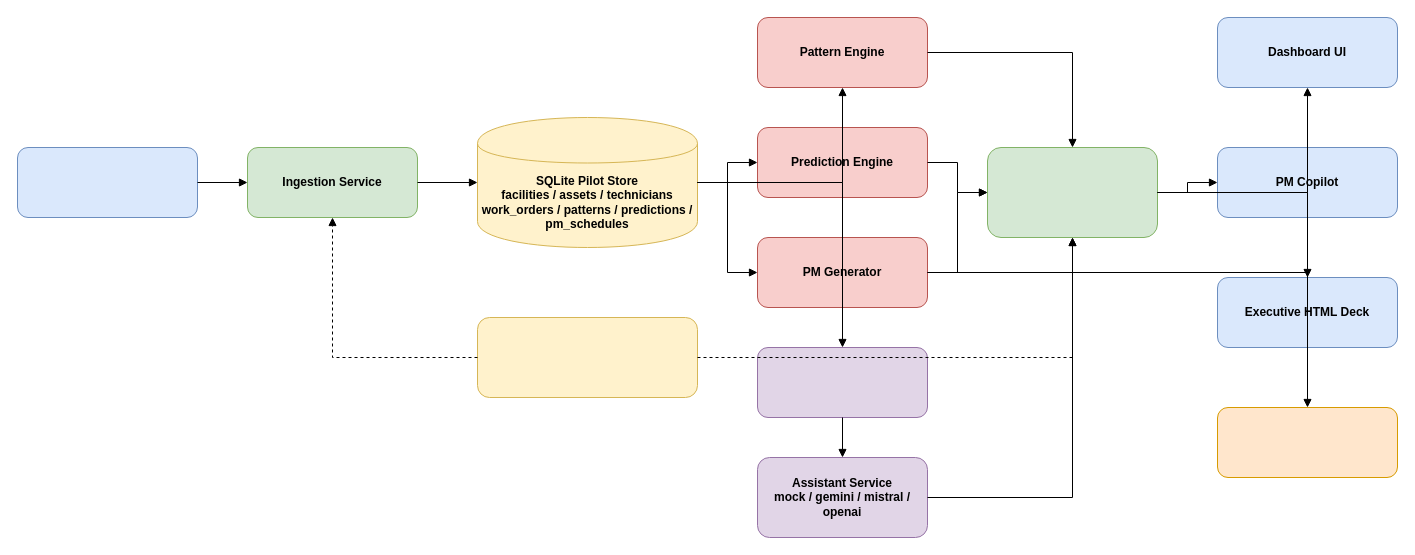
Image size: 1415x555. Some labels were removed from this diagram. Here are the shapes that lost their labels. From the top down, the centre of each, then its label:
At point 107,182: "CAFM / CSV / Service Export".
At point 1072,192: "FastAPI Routes".
At point 587,357: "Scheduler / Startup Lifecycle".
At point 842,382: "Portfolio Service".
At point 1307,442: "Mock CAFM Endpoint".
